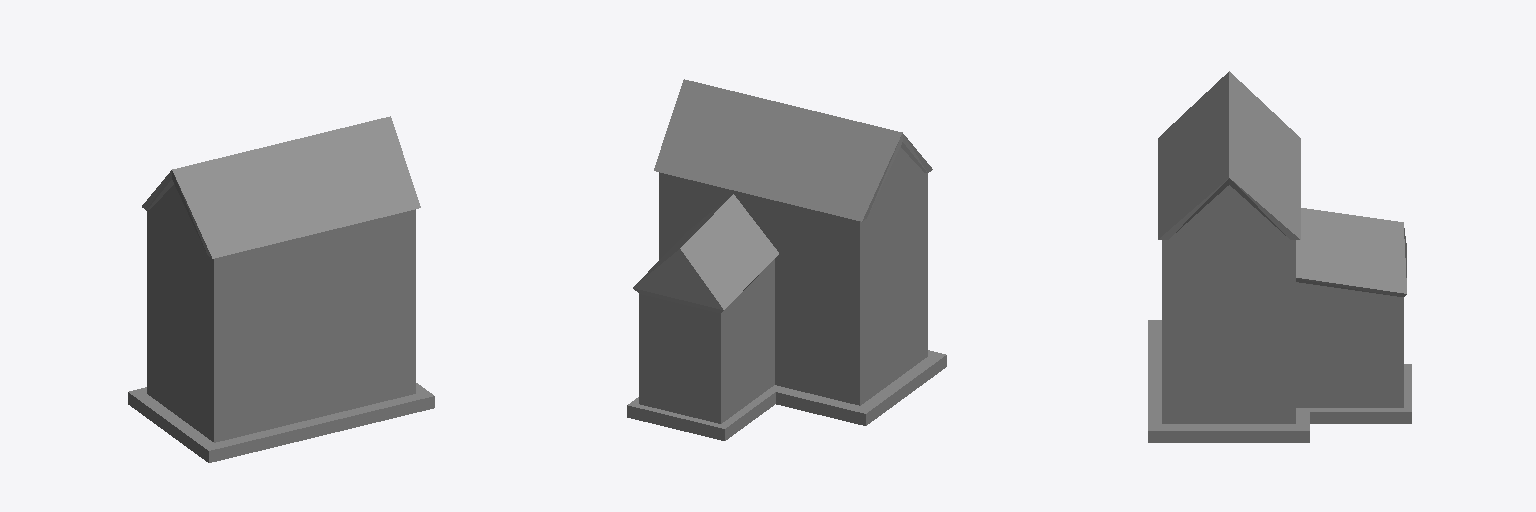
File: Hous_6_Cut.obj
3 views of the same model, side by side, from view 1: azimuth 30°, elevation 25°; view 2: azimuth 150°, elevation 25°; view 3: azimuth 270°, elevation 25° (orthographic).
Visible parts, largest first — view 1: House6_T, House6_R; view 2: House6_T, House6_R; view 3: House6_T, House6_R.
Boxes of the visible parts, <box> form: House6_T: <box>128,184,434,462</box>; House6_R: <box>142,116,420,258</box>; House6_T: <box>627,147,946,440</box>; House6_R: <box>633,79,932,313</box>; House6_T: <box>1148,185,1411,442</box>; House6_R: <box>1158,71,1406,296</box>.
Bounding box in the file's own units: 6.74 × 7.5 × 6.8.